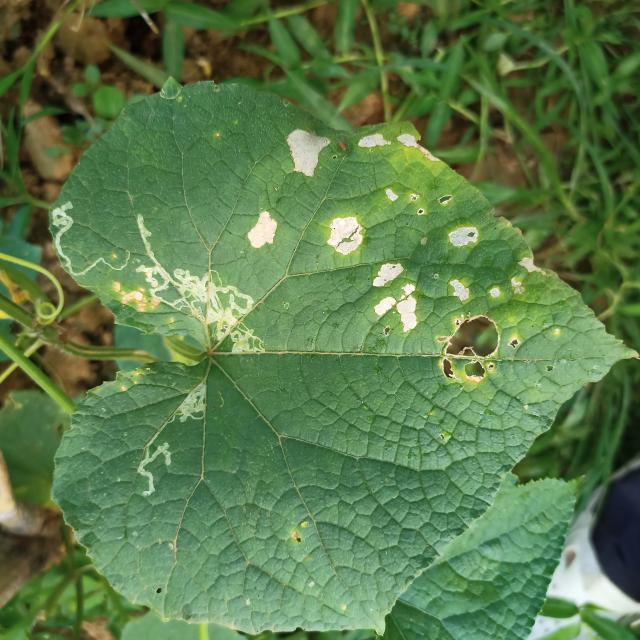disease_cucumber: (282, 121, 551, 352), (239, 208, 280, 258)
